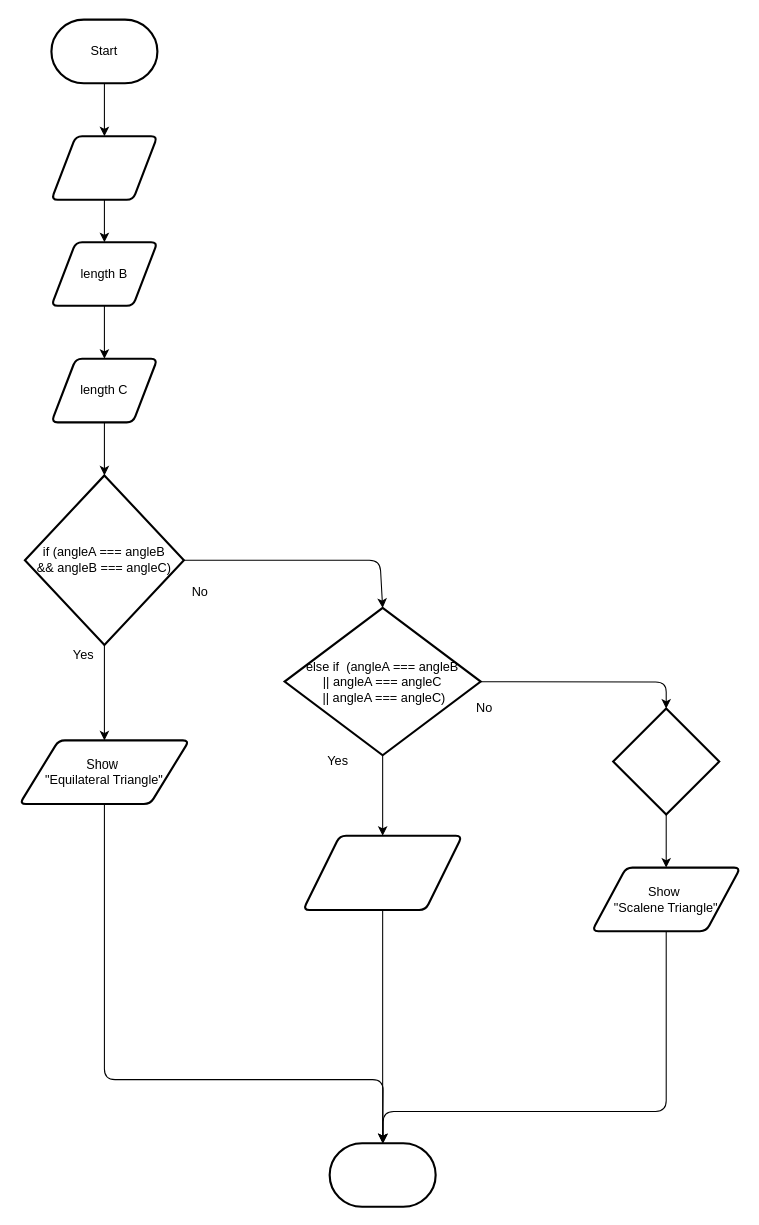
The diagram is 759 pixels wide and 1225 high, and some of its shapes have lost their labels. Each missing label, with the box of its shape:
else: (612, 707, 720, 815)
length A: (50, 135, 158, 200)
Show "Isosceles triangle": (302, 834, 463, 911)
Stop: (328, 1142, 436, 1207)
